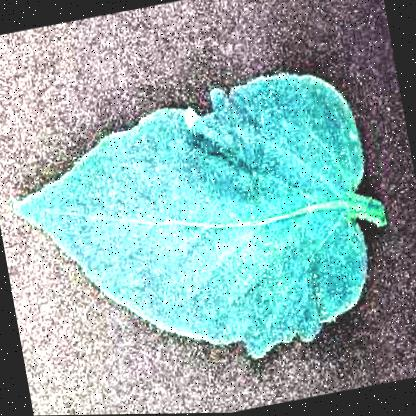Healthy: (0, 53, 408, 402)
